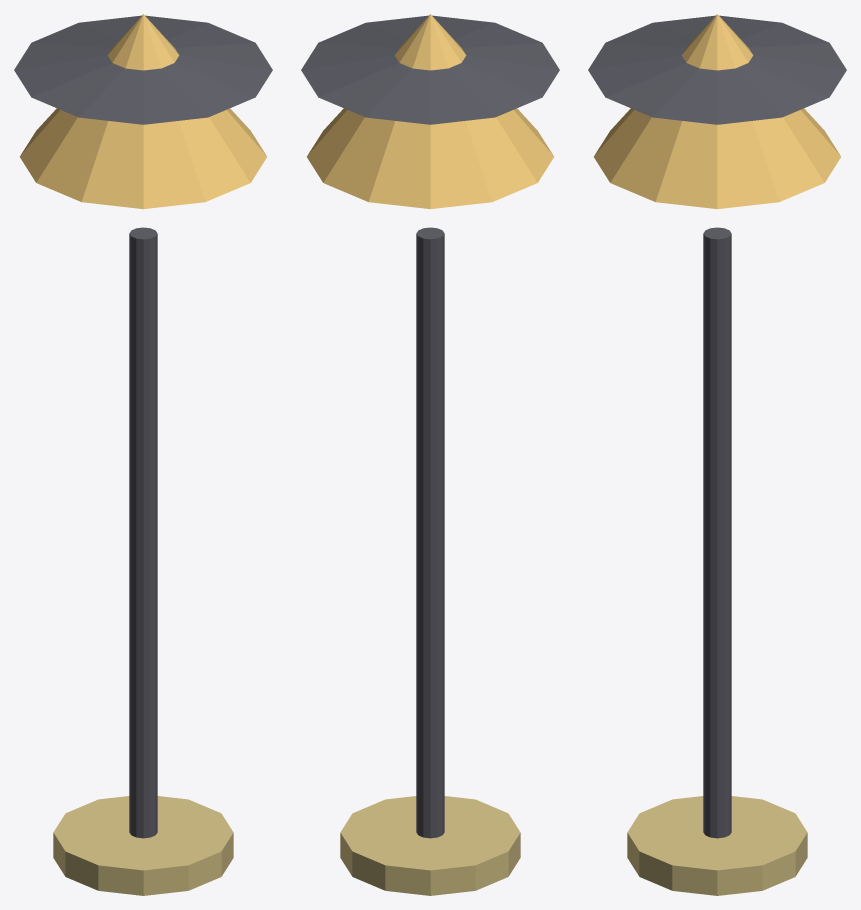
Rendered from mdl_furniture_lamp_floor_001.glb.
The picture shows the model from 3 angles, left to right: view 1: azimuth 30°, elevation 25°; view 2: azimuth 150°, elevation 25°; view 3: azimuth 270°, elevation 25°; orthographic projection.
Visible parts, largest first — view 1: m_carbon, m_ambar, m_oro_viejo; view 2: m_carbon, m_ambar, m_oro_viejo; view 3: m_carbon, m_ambar, m_oro_viejo.
Part boxes in pixels (x1,y1,x2,y2): m_carbon: (14, 15, 272, 838); m_ambar: (20, 14, 266, 209); m_oro_viejo: (53, 796, 233, 895); m_carbon: (301, 15, 559, 838); m_ambar: (307, 14, 553, 209); m_oro_viejo: (340, 796, 520, 895); m_carbon: (588, 15, 846, 838); m_ambar: (594, 14, 840, 209); m_oro_viejo: (627, 796, 807, 895).
Size of the model in its own units: 0.46 by 1.65 by 0.46.
